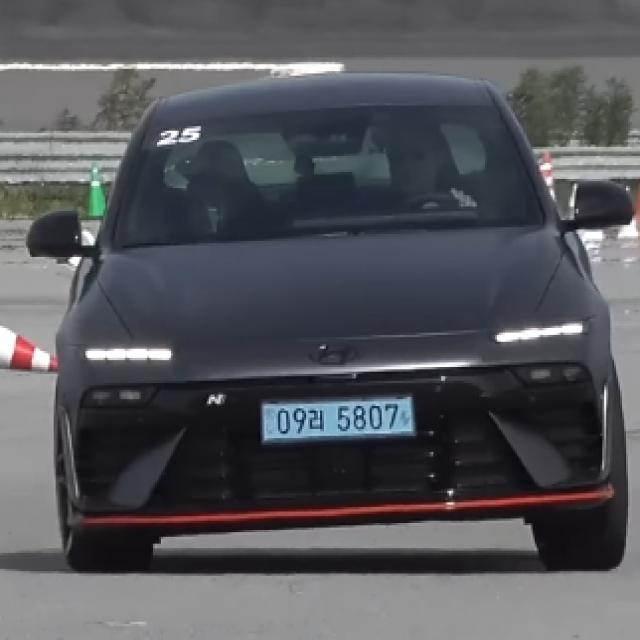car: (239, 383, 454, 460)
carev: (398, 394, 423, 443), (258, 399, 278, 448)
